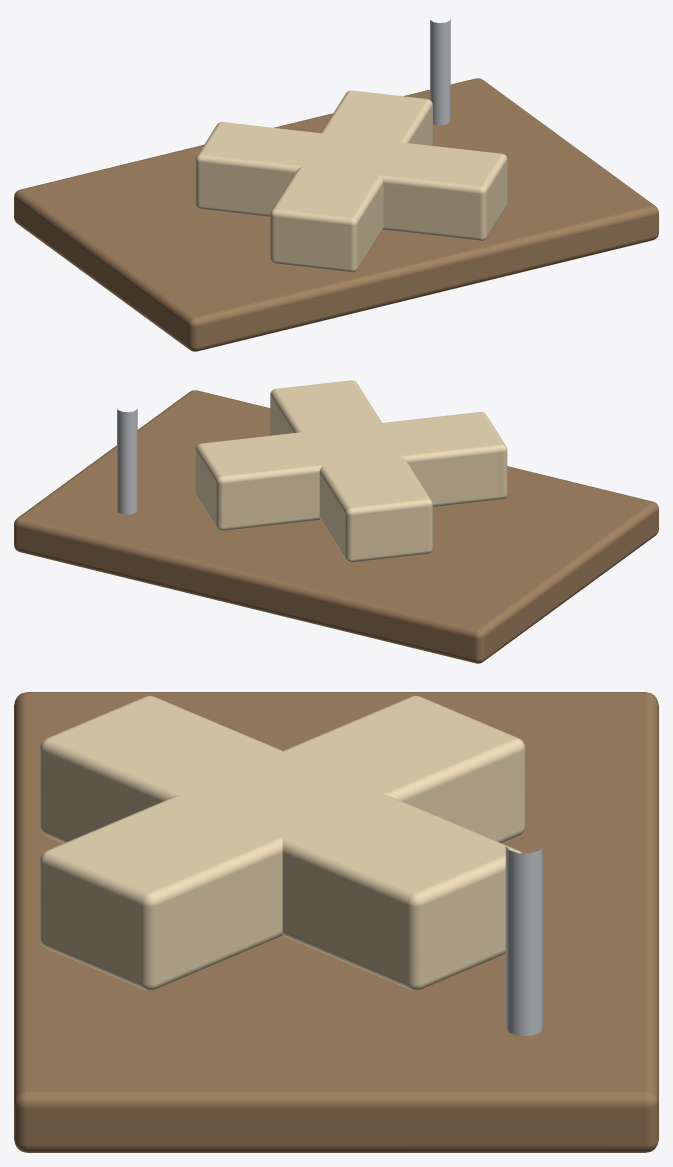
Rendered from marquetry-and-veneer-inlay-workshop-diagonal-stringing-09f8d705__39110.glb.
The picture shows the model from 3 angles, top to bottom: view 1: azimuth 30°, elevation 25°; view 2: azimuth 150°, elevation 25°; view 3: azimuth 270°, elevation 25°; orthographic projection. The views are drawn at different scales.
Parts seen in each view (by area): view 1: diagonal-stringing-mitre-jig; view 2: diagonal-stringing-mitre-jig; view 3: diagonal-stringing-mitre-jig.
Part boxes in pixels (left/top/right/bottom): diagonal-stringing-mitre-jig: left=14, top=18, right=658, bottom=351; diagonal-stringing-mitre-jig: left=14, top=380, right=658, bottom=663; diagonal-stringing-mitre-jig: left=14, top=692, right=658, bottom=1152.
Bounding box in the file's own units: 0.36 × 0.1 × 0.24.
